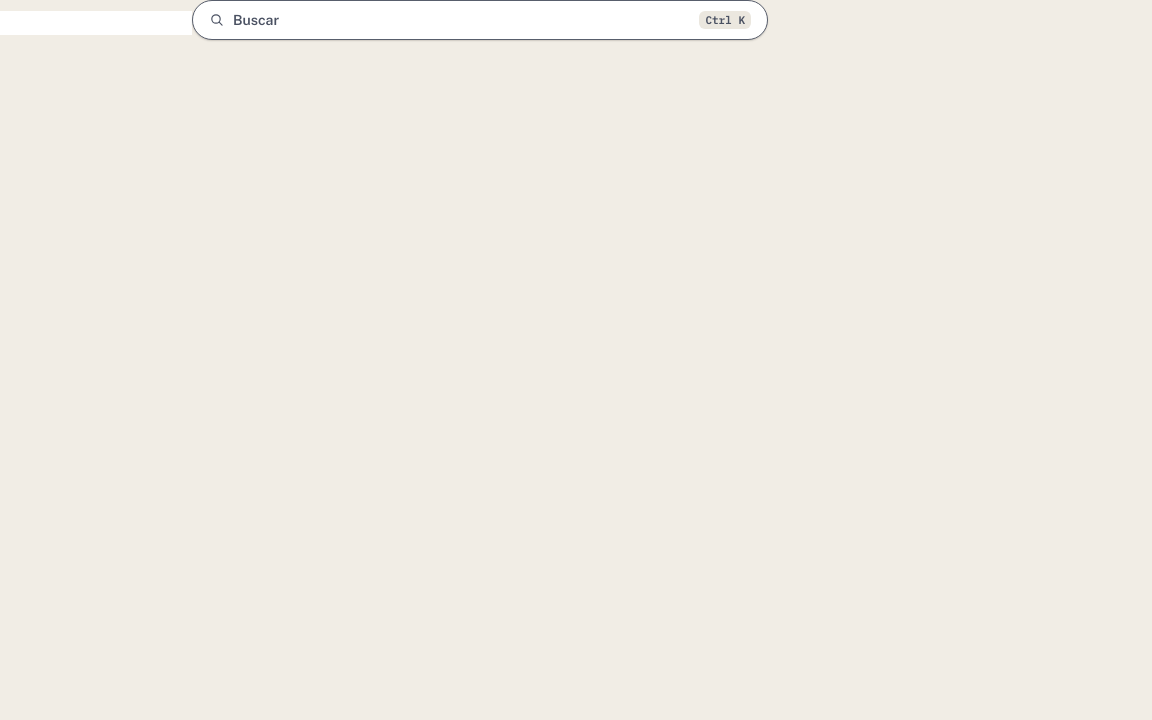
Test: GlobalSearch (D-129) › says so when nothing matches
Type keys "{Control>}k{/Control}"
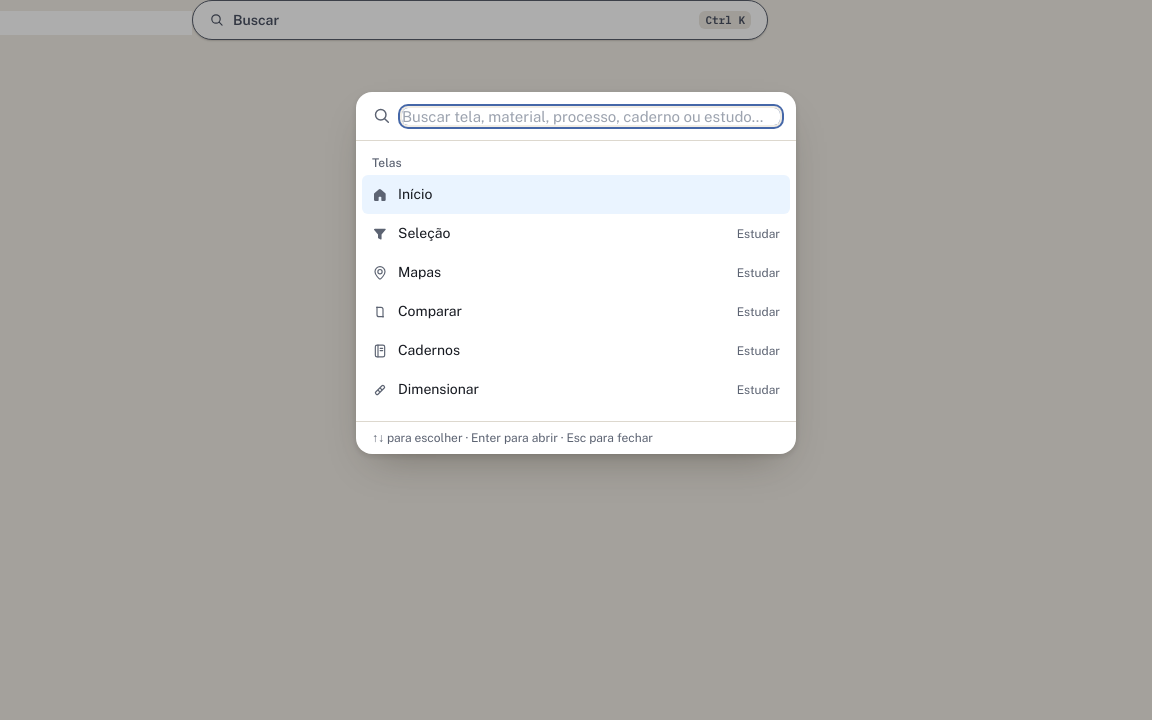
Type "zzzz" into the dropdown at (591, 116), box 402,108 -> 780,124
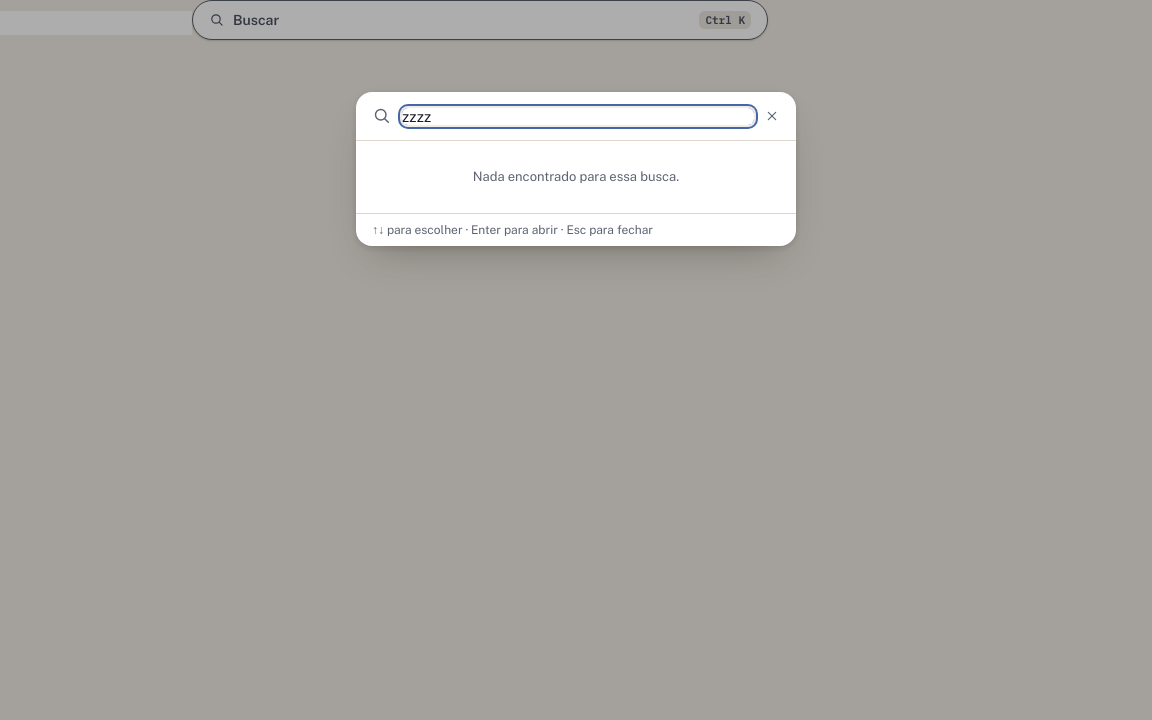
Expected: the list item "Nada encontrado para essa busca." is shown, 473,169 -> 679,184
